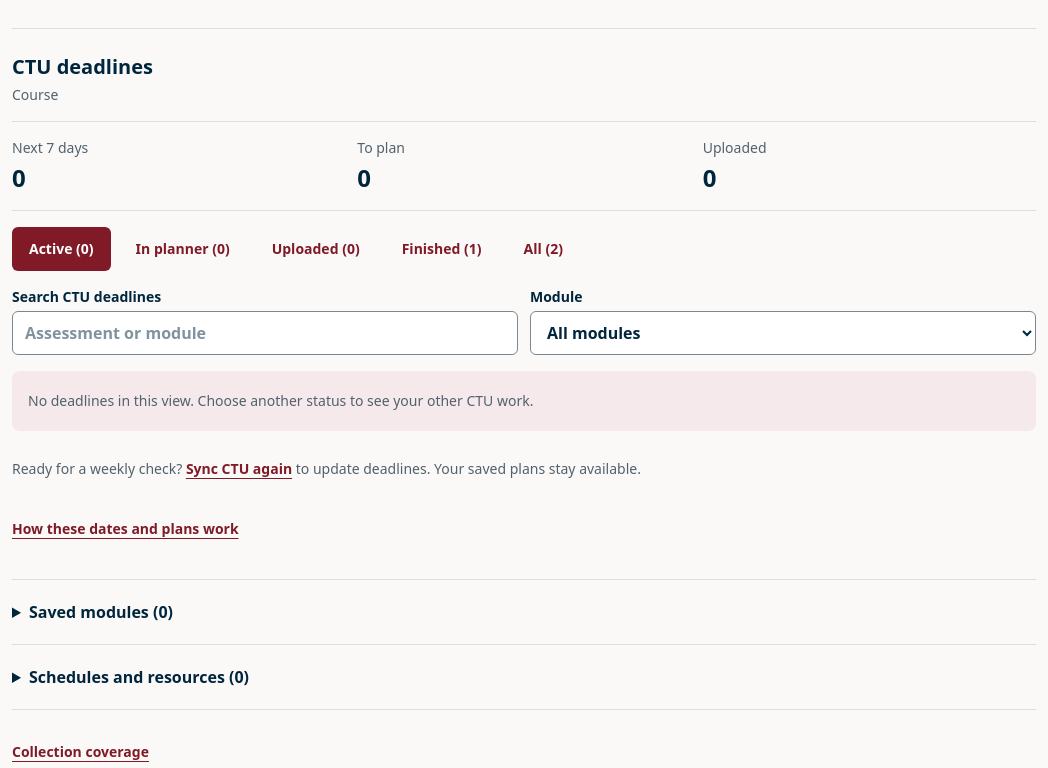
Test: saved CTU presentation › keeps completed and no-longer-seen work discoverable without actionable deadline counts
Click the button "Finished (1)". click: (442,249)
box: [385,227,499,271]
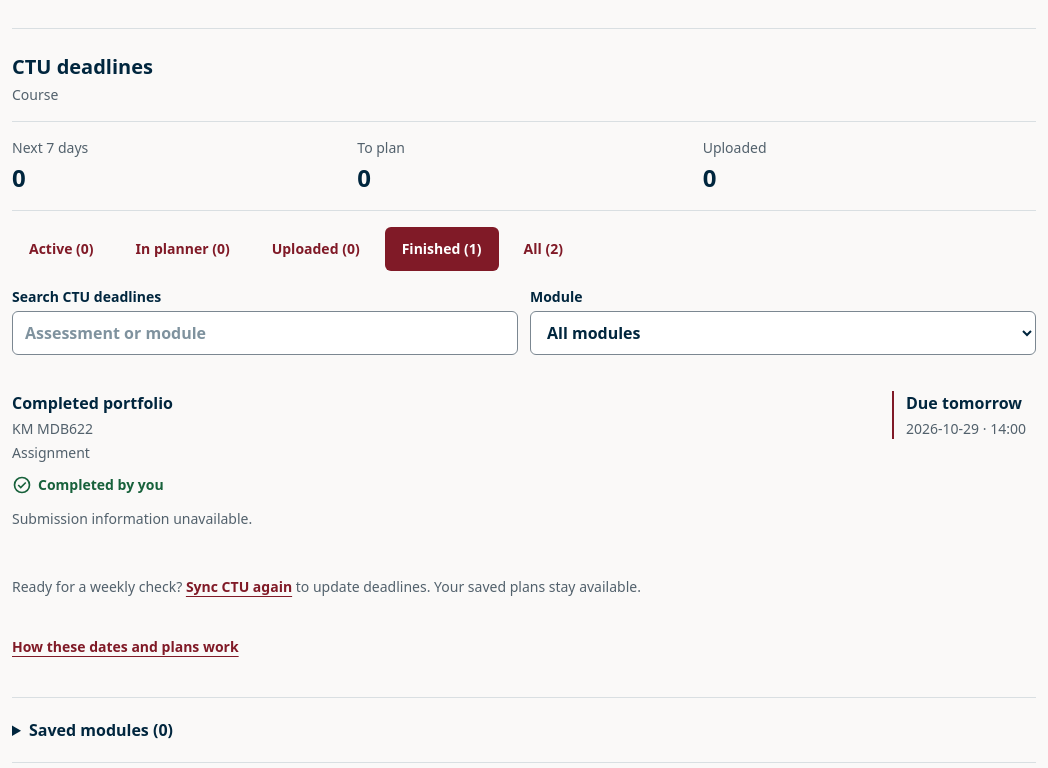
Expected: the text "Completed portfolio" is shown, [12,392,173,414]
Expected: the text "Completed by you" is shown, [12,475,164,495]
Click the button "All (2)". click: (543,249)
box: [506,227,580,271]
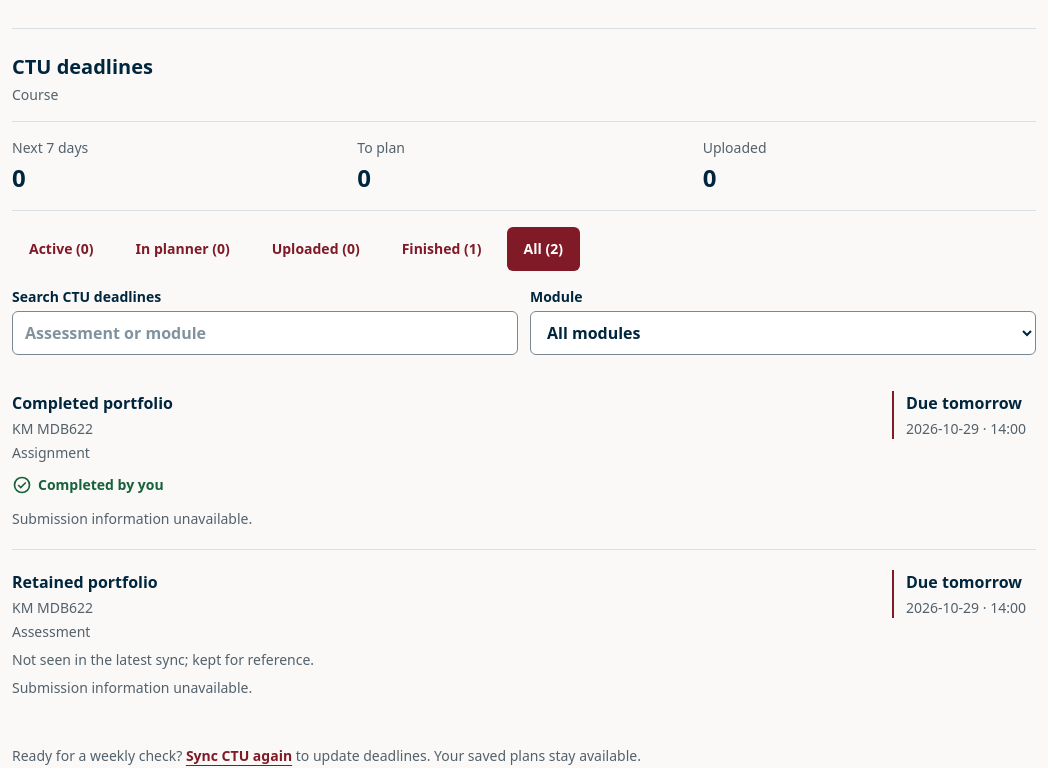
Expected: the text "Retained portfolio" is shown, [12,571,158,593]
Expected: the text "Not seen in the latest sync; kept for reference." is shown, [12,650,314,669]
